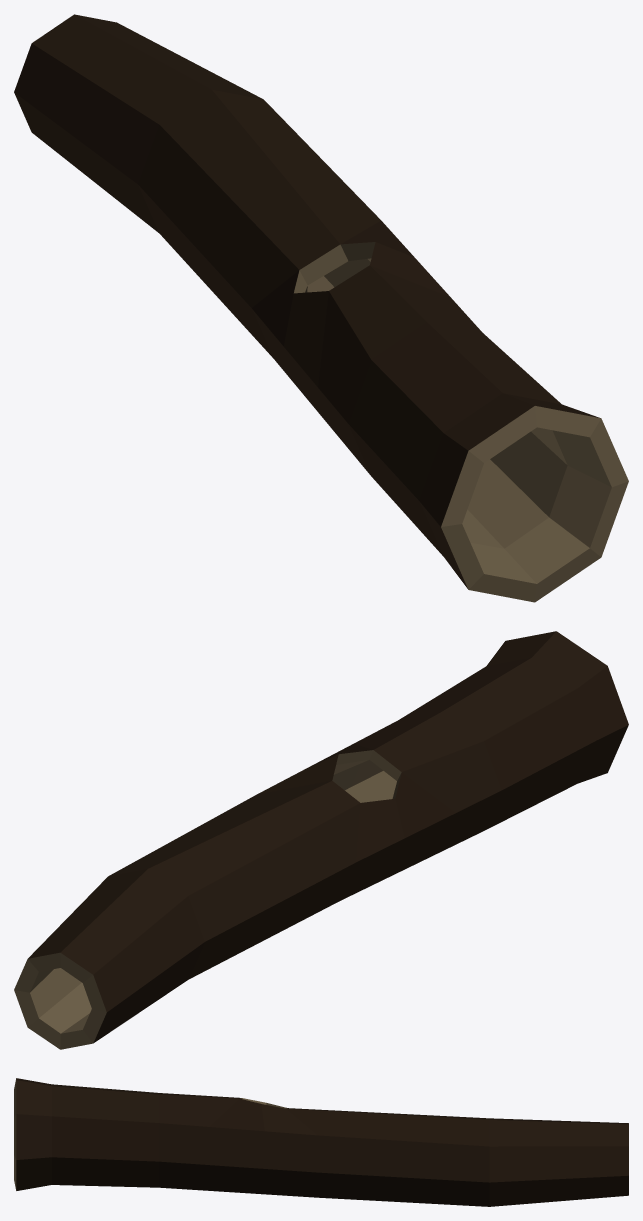
Rendered from Log.fbx.
The picture shows the model from 3 angles, top to bottom: view 1: azimuth 30°, elevation 25°; view 2: azimuth 150°, elevation 25°; view 3: azimuth 270°, elevation 25°; orthographic projection. The views are drawn at different scales.
Parts seen in each view (by area): view 1: Log; view 2: Log; view 3: Log.
Boxes of the visible parts, box(x1,y1,x2,y2) form: Log: box(14, 14, 628, 602); Log: box(14, 631, 628, 1049); Log: box(14, 1078, 628, 1206).
Bounding box in the file's own units: 30.29 × 21.01 × 107.
